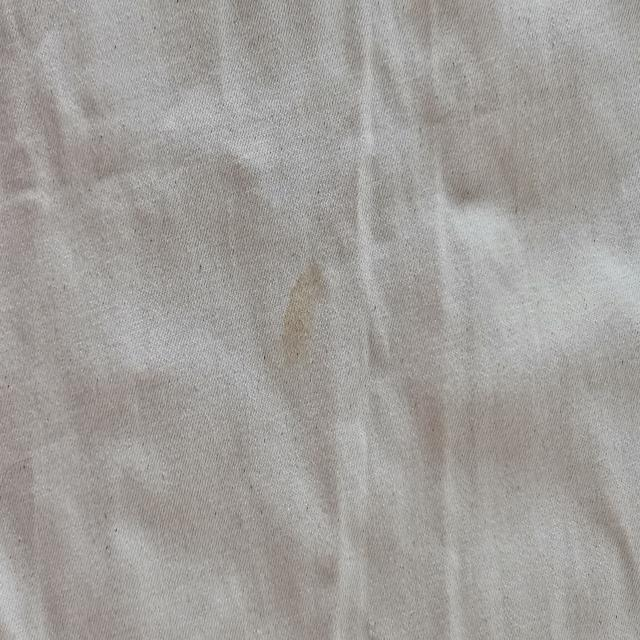taaaches: (275, 250, 330, 373)
